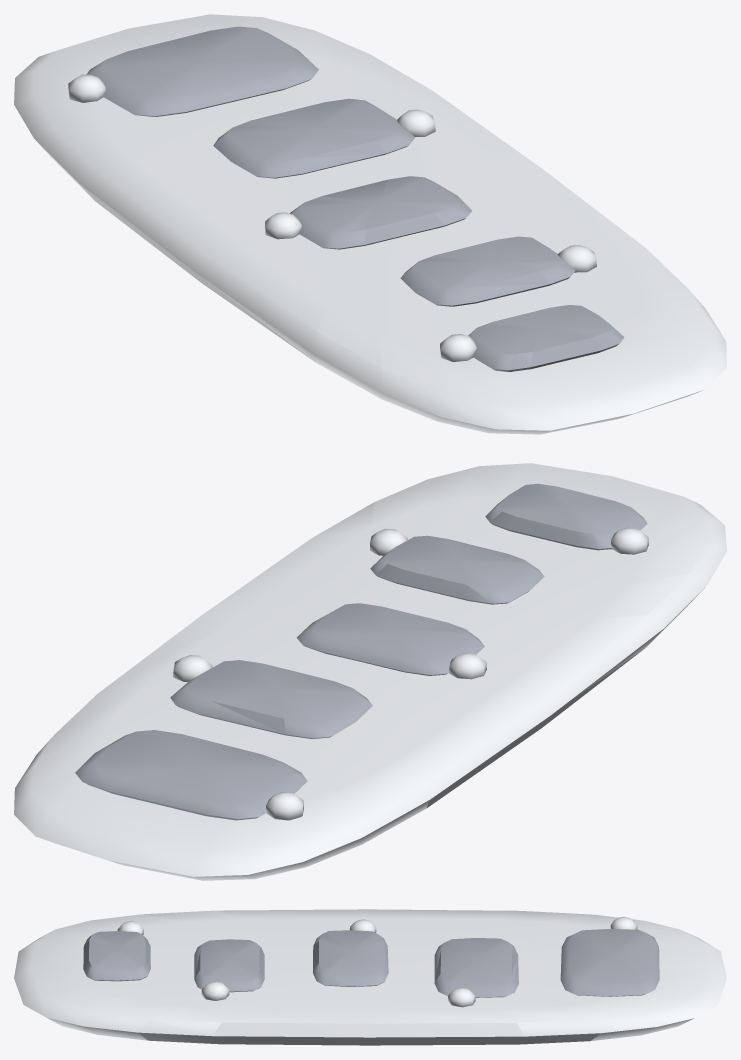
The model's file is SnowSteppingStones.glb.
3 views of the same model, one above another, from view 1: azimuth 30°, elevation 25°; view 2: azimuth 150°, elevation 25°; view 3: azimuth 270°, elevation 25° (orthographic). The views are drawn at different scales.
Parts seen in each view (by area): view 1: SnowSteppingStones; view 2: SnowSteppingStones; view 3: SnowSteppingStones.
Boxes of the visible parts, x1,y1,x2,y2 form: SnowSteppingStones: (14,14,726,434); SnowSteppingStones: (14,463,726,880); SnowSteppingStones: (14,909,726,1045).
Bounding box in the file's own units: 6.38 × 0.9768 × 15.91.
1 material, 1 textured.
